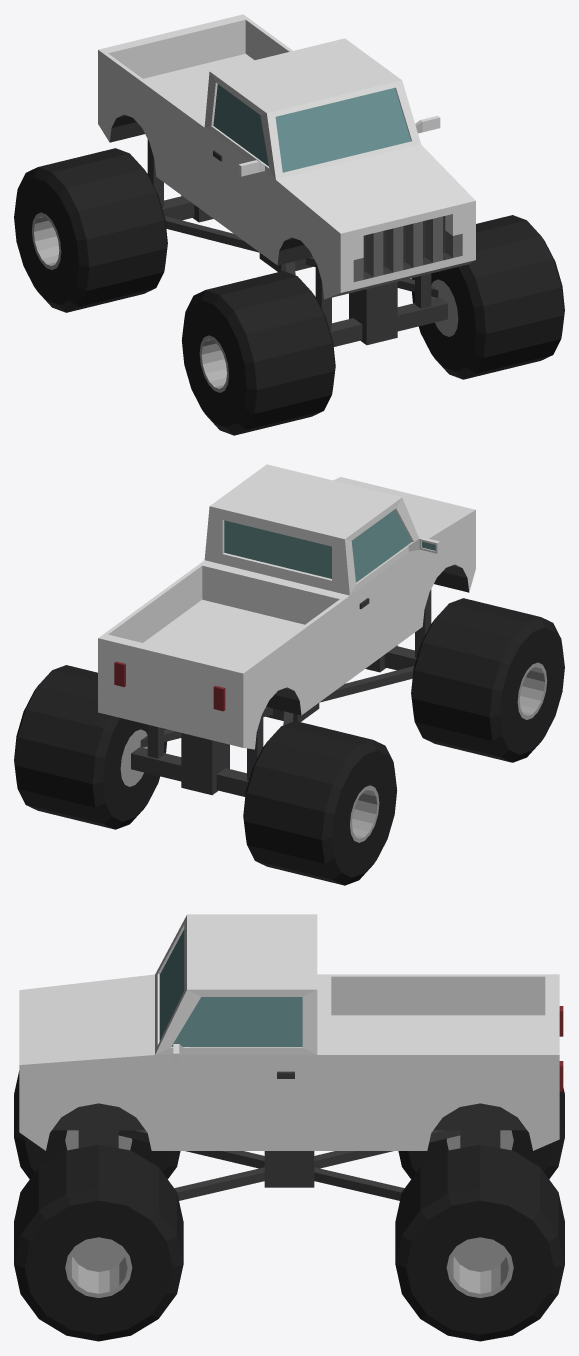
File: MonsterTruck.fbx
3 views of the same model, one above another, from view 1: azimuth 30°, elevation 25°; view 2: azimuth 150°, elevation 25°; view 3: azimuth 270°, elevation 25° (orthographic). The views are drawn at different scales.
Parts seen in each view (by area): view 1: MainColor, Main, FRightTire, RRightTire, FLeftTire; view 2: MainColor, RRightTire, FRightTire, Main, RLeftTire; view 3: MainColor, FLeftTire, RLeftTire, Main, FRightTire, RRightTire.
Part boxes in pixels (x1,y1,x2,y2): MainColor: [98, 14, 475, 299]; Main: [109, 84, 474, 346]; FRightTire: [181, 271, 335, 435]; RRightTire: [14, 148, 167, 312]; FLeftTire: [411, 215, 564, 379]; MainColor: [98, 464, 475, 749]; RRightTire: [243, 721, 397, 885]; FRightTire: [411, 598, 564, 762]; Main: [114, 509, 469, 796]; RLeftTire: [14, 665, 167, 829]; MainColor: [19, 914, 559, 1150]; FLeftTire: [14, 1144, 183, 1341]; RLeftTire: [395, 1144, 564, 1341]; Main: [52, 929, 563, 1200]; FRightTire: [14, 1071, 180, 1179]; RRightTire: [398, 1088, 564, 1179].
Bounding box in the file's own units: 315 × 254 × 416.
